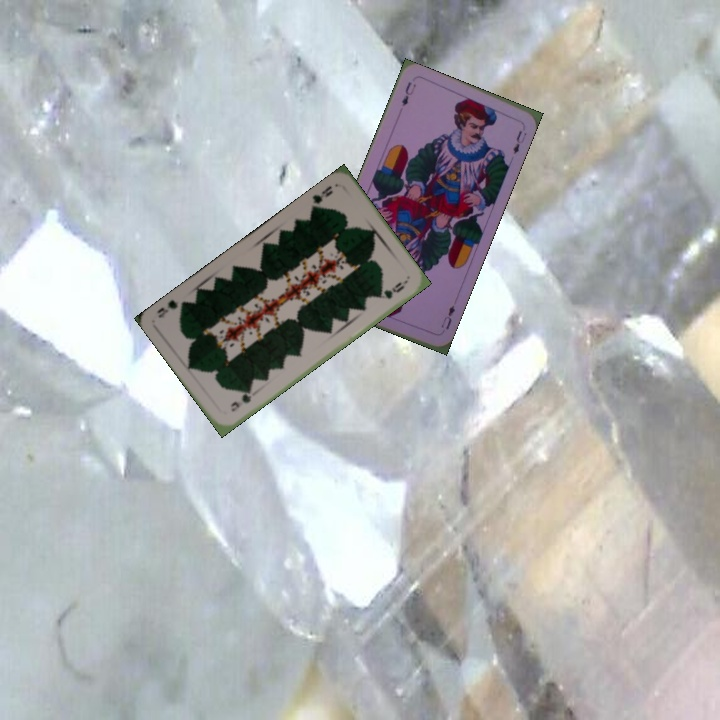EU: (398, 78, 419, 109), (437, 301, 457, 332)
G9: (307, 182, 336, 213), (227, 387, 254, 414)
